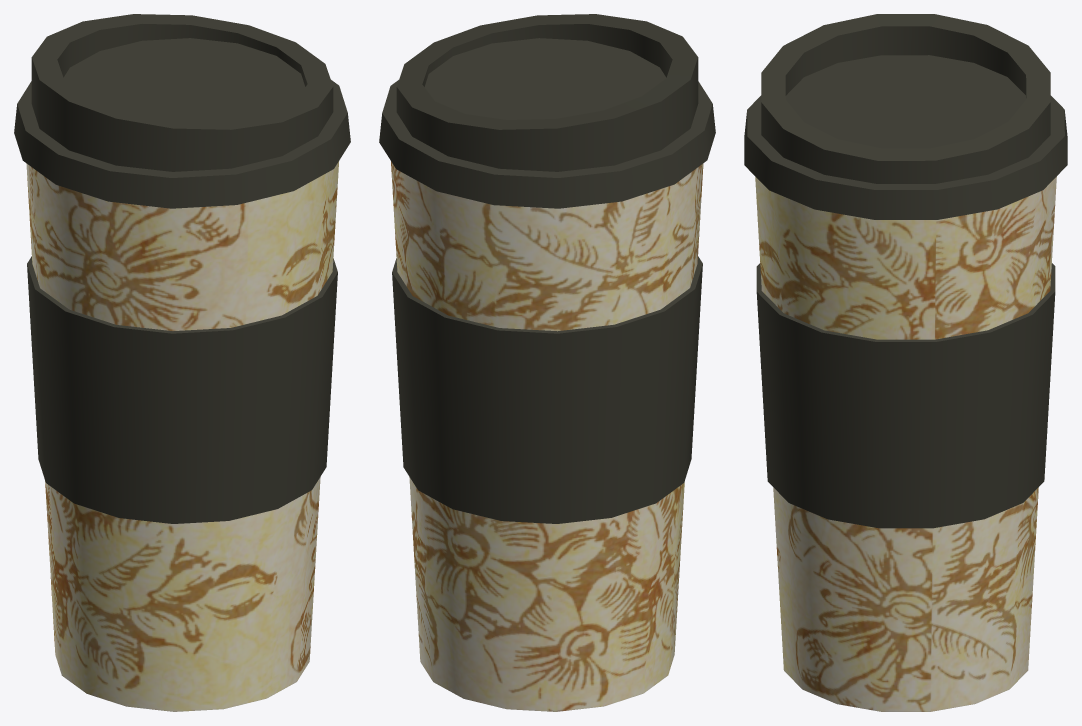
File: FBX_BigCupCoffee.fbx
3 renders of one model, left to right at view 1: azimuth 30°, elevation 25°; view 2: azimuth 150°, elevation 25°; view 3: azimuth 270°, elevation 25°, orthographic. The views are drawn at different scales.
Parts seen in each view (by area): view 1: SM_BigCupCoffee; view 2: SM_BigCupCoffee; view 3: SM_BigCupCoffee.
Boxes of the visible parts, left/top/right/bottom form: SM_BigCupCoffee: left=14, top=14, right=350, bottom=711; SM_BigCupCoffee: left=379, top=14, right=715, bottom=711; SM_BigCupCoffee: left=744, top=14, right=1067, bottom=711.
Size of the model in its own units: 0.0922 by 0.184 by 0.0922.
